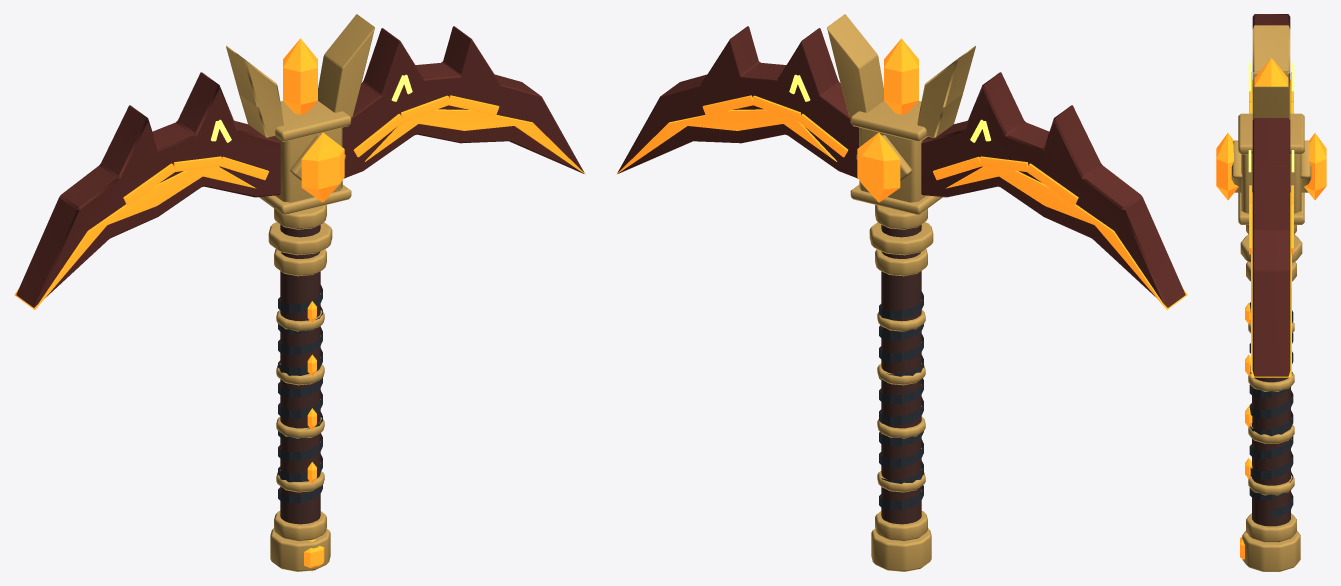
File: ignis.glb
3 renders of one model, left to right at view 1: azimuth 30°, elevation 25°; view 2: azimuth 150°, elevation 25°; view 3: azimuth 270°, elevation 25°, orthographic. The views are drawn at different scales.
Parts seen in each view (by area): view 1: ignis__Volcanic_armor.001, ignis__Royal_gold.001, ignis__Molten_orange.001, ignis__Leather.001, ignis__Blackened_metal.001; view 2: ignis__Volcanic_armor.001, ignis__Royal_gold.001, ignis__Molten_orange.001, ignis__Leather.001, ignis__Blackened_metal.001; view 3: ignis__Royal_gold.001, ignis__Volcanic_armor.001, ignis__Molten_orange.001, ignis__Leather.001, ignis__Blackened_metal.001, ignis__White_hot_core.001.
Boxes of the visible parts, x1,y1,x2,y2 form: ignis__Volcanic_armor.001: (16,26,584,307); ignis__Royal_gold.001: (226,14,374,571); ignis__Molten_orange.001: (14,38,585,571); ignis__Leather.001: (280,224,320,524); ignis__Blackened_metal.001: (278,285,322,503); ignis__Volcanic_armor.001: (617,26,1185,307); ignis__Royal_gold.001: (827,14,975,571); ignis__Molten_orange.001: (616,38,1187,309); ignis__Leather.001: (881,224,921,524); ignis__Blackened_metal.001: (879,291,923,509); ignis__Royal_gold.001: (1231,25,1311,571); ignis__Volcanic_armor.001: (1252,14,1290,376); ignis__Molten_orange.001: (1216,58,1326,559); ignis__Leather.001: (1252,377,1290,526); ignis__Blackened_metal.001: (1249,302,1293,518); ignis__White_hot_core.001: (1248,63,1294,172).
Bounding box in the file's own units: 4.09 × 3.73 × 0.7359.
